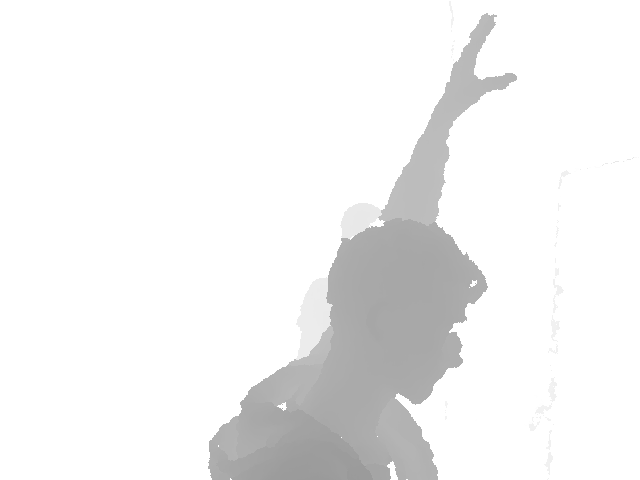hand: (443, 13, 517, 107)
head: (328, 221, 474, 406), (340, 202, 383, 245)
person: (207, 13, 518, 480), (295, 203, 385, 364)
